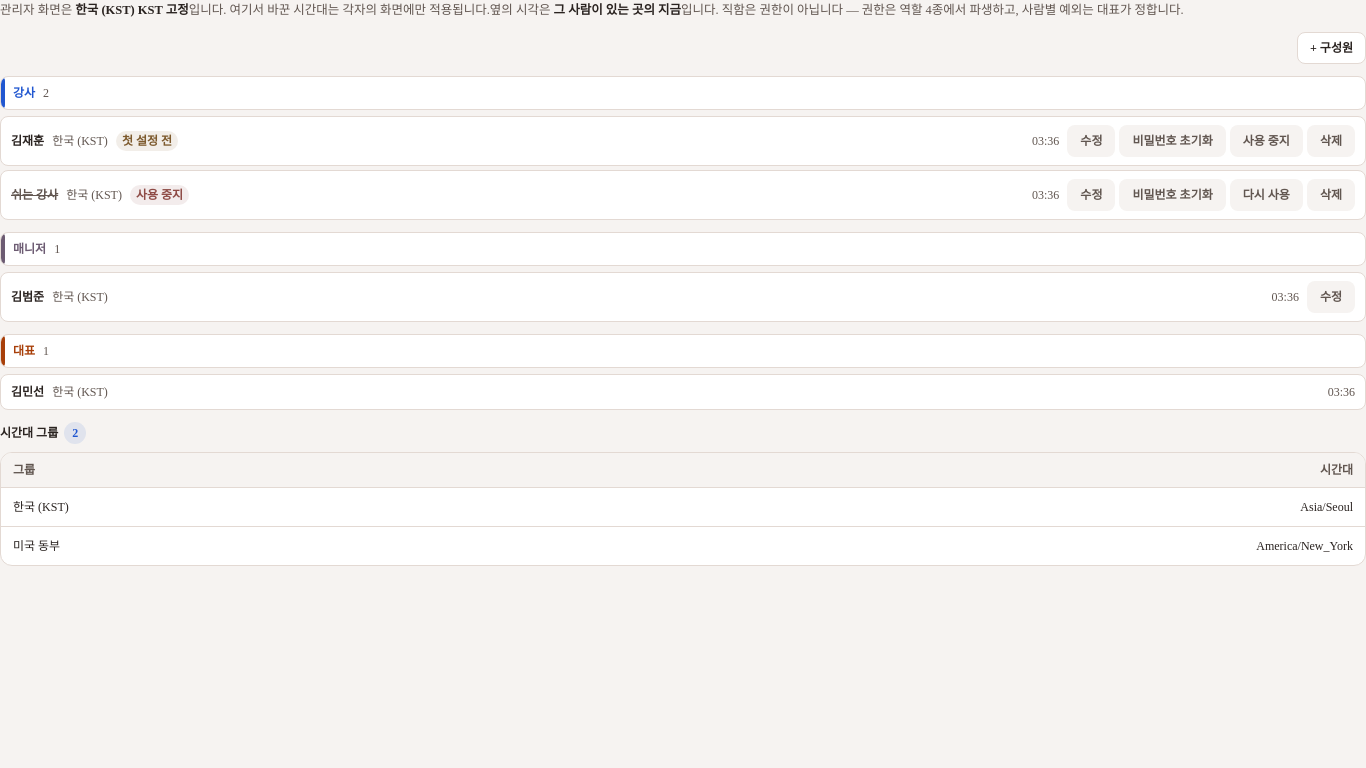
Test: §17 사용자 표 CRUD (W8) › 초기화의 규칙 거절은 서버 문장 그대로 창 안에 남고 넘겨줄 정보는 서지 않는다 · 닫았다 열면 적은 값이 없다
Click the button "비밀번호 초기화" in the row of "김재훈" at (1173, 141), box [1120,125,1226,157]
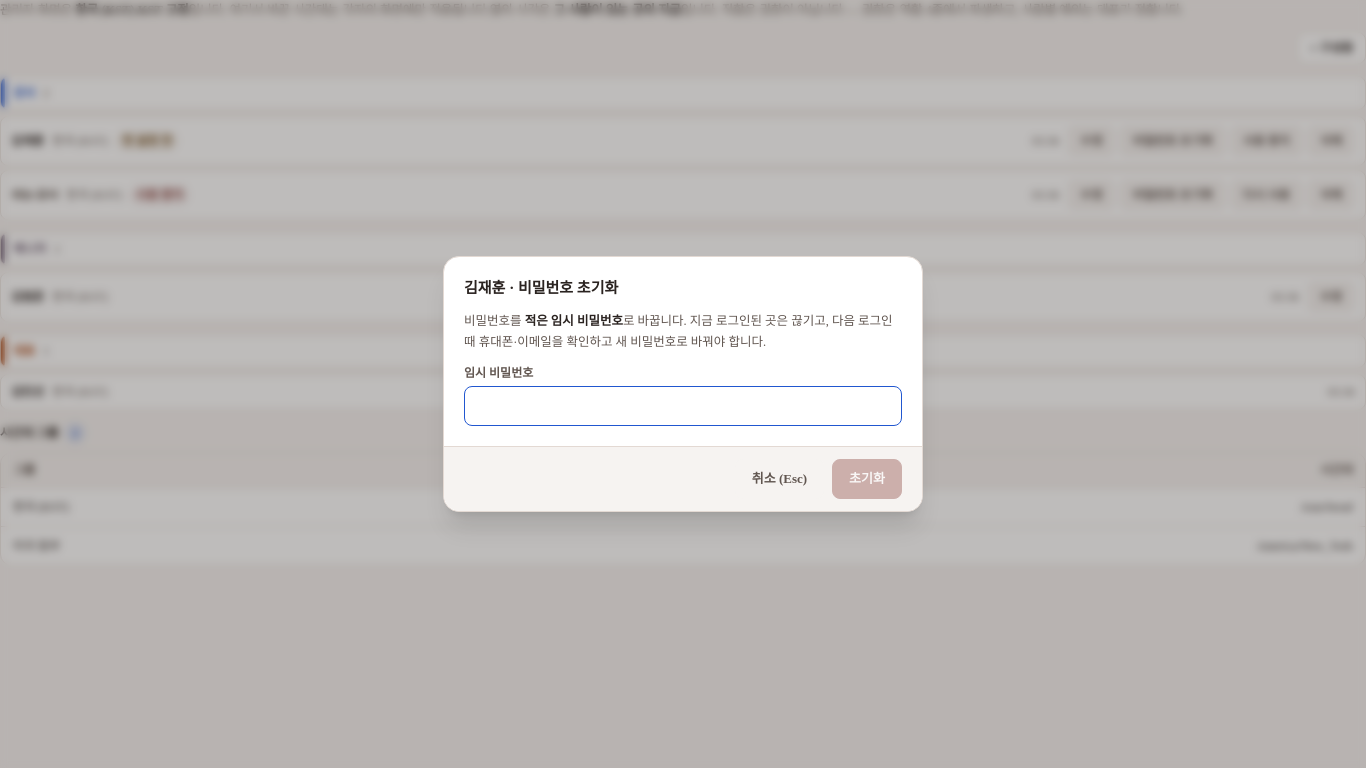
Type "onlyletters" into the field labelled "임시 비밀번호" at (683, 406), box [464,386,902,426]
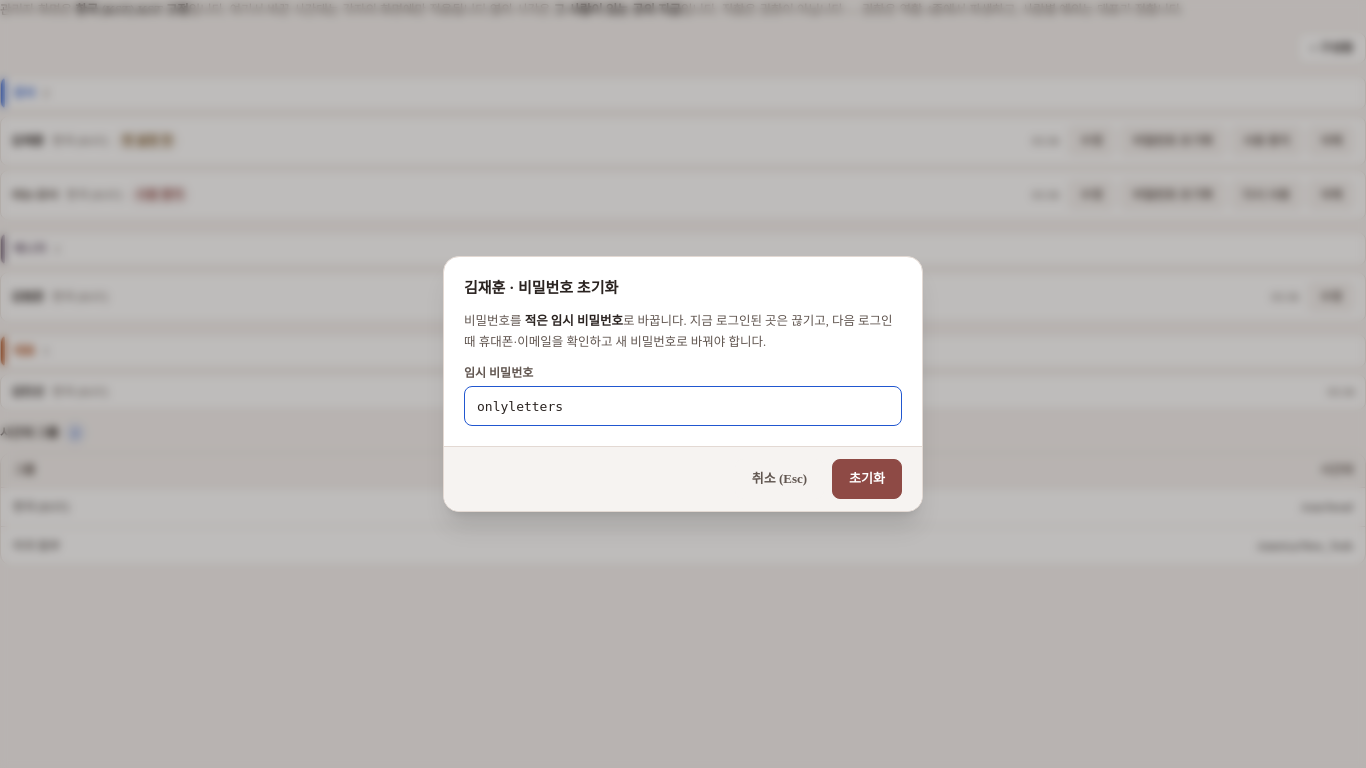
Click the button "초기화" at (867, 479), box [832,459,902,499]
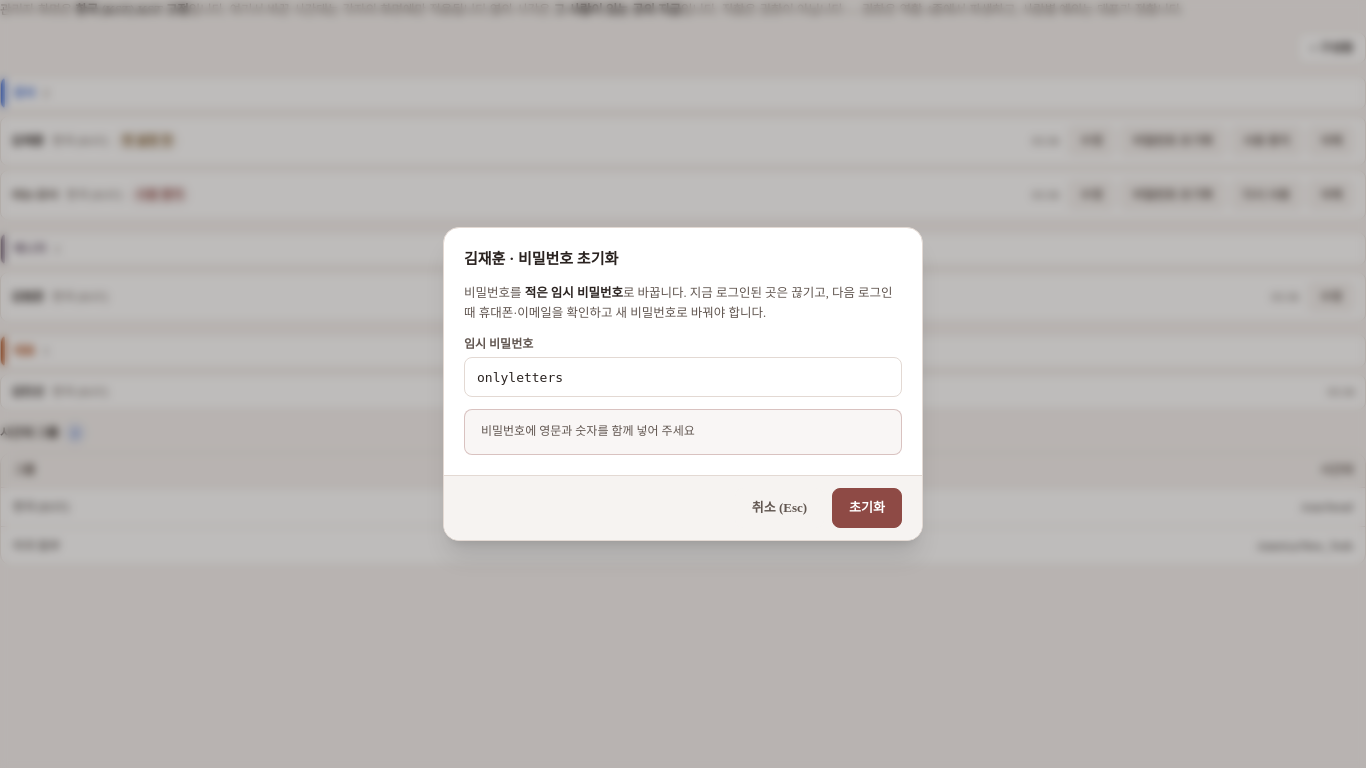
Expected: the text "비밀번호에 영문과 숫자를 함께 넣어 주세요" is shown, [464,409,902,455]
Click the button "취소 (Esc)" at (779, 508), box [735,488,824,528]
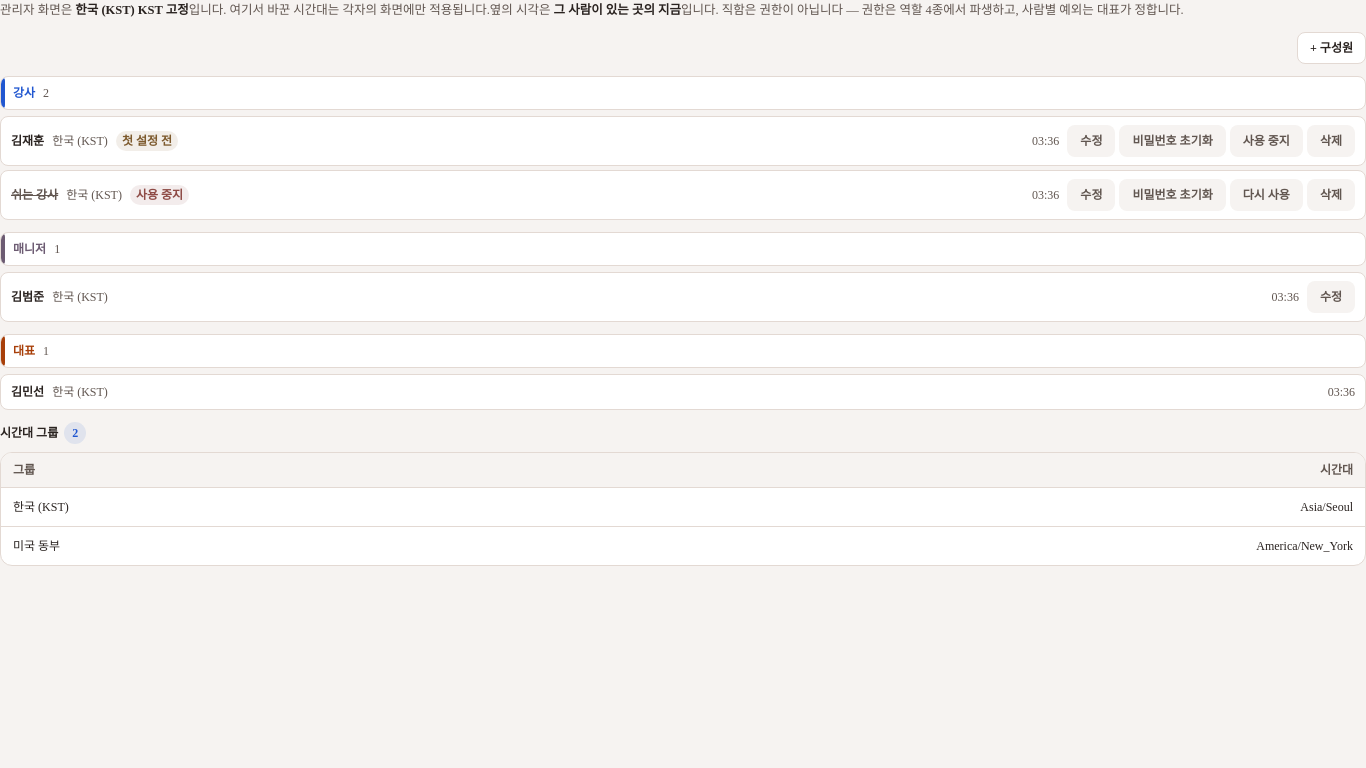
Expected: the dialog is gone
Click the button "비밀번호 초기화" in the row of "김재훈" at (1173, 141), box [1120,125,1226,157]
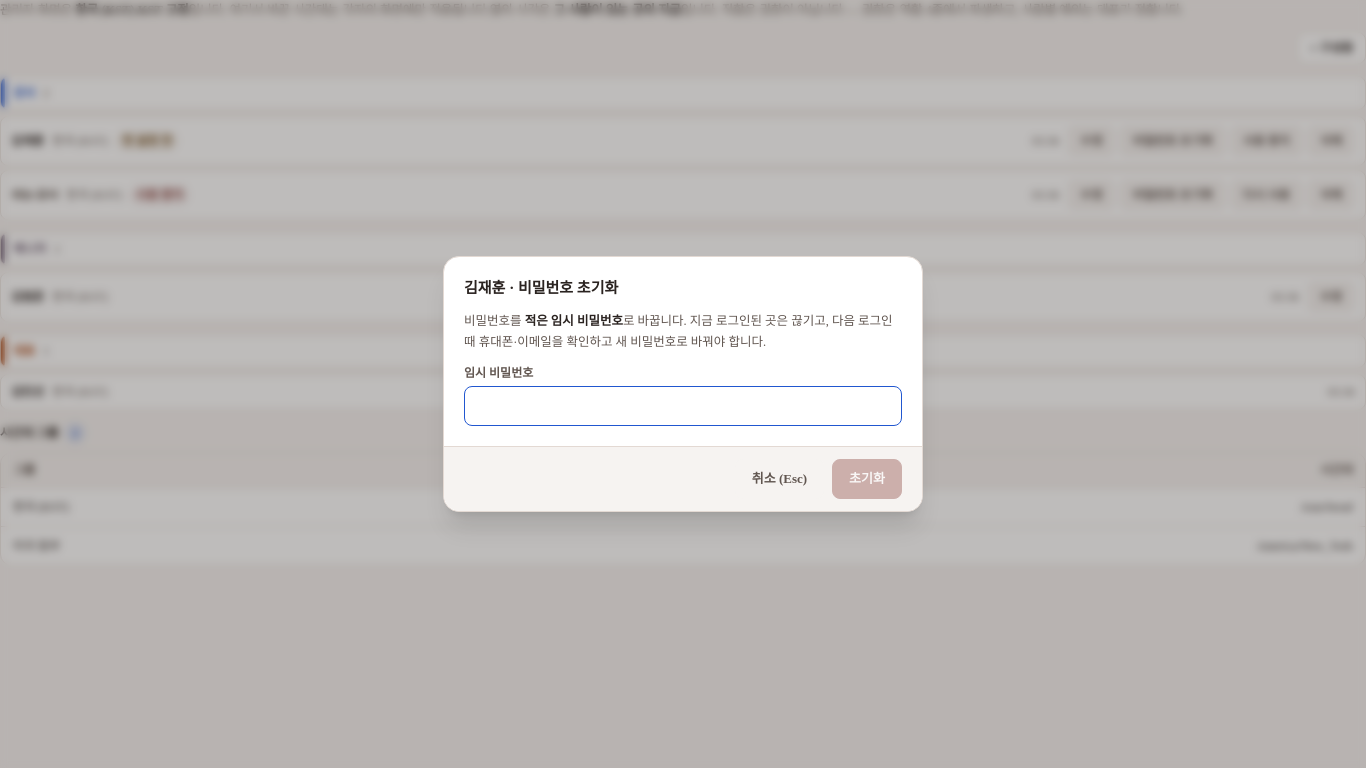
Expected: the field labelled "임시 비밀번호" is empty, [464,386,902,426]
